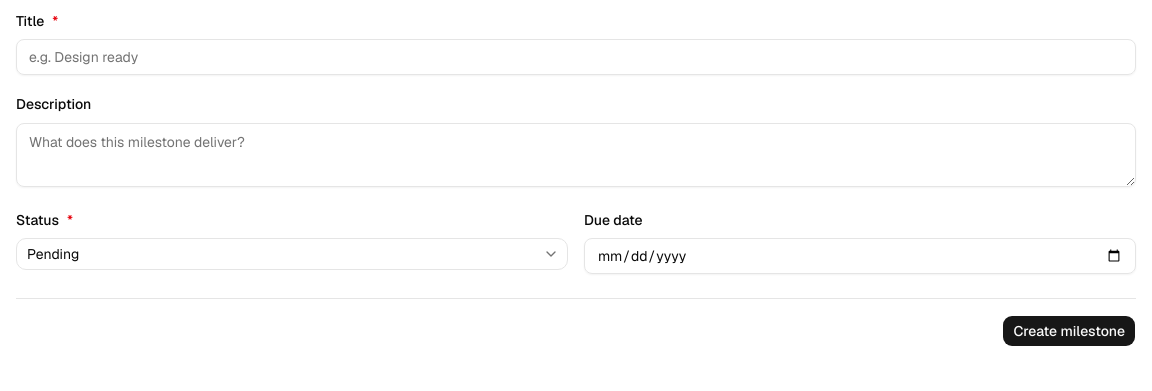
Test: MilestoneForm (create mode) › shows a zod error when the title is missing
Click the button "Create milestone": [1069, 331] box [1002,315,1136,347]
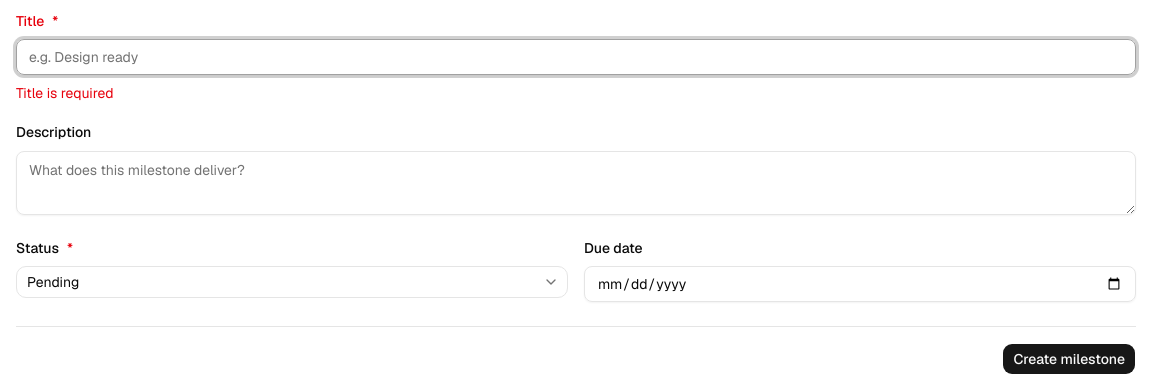
Expected: the text "Title is required" is shown, [16,84,114,102]
